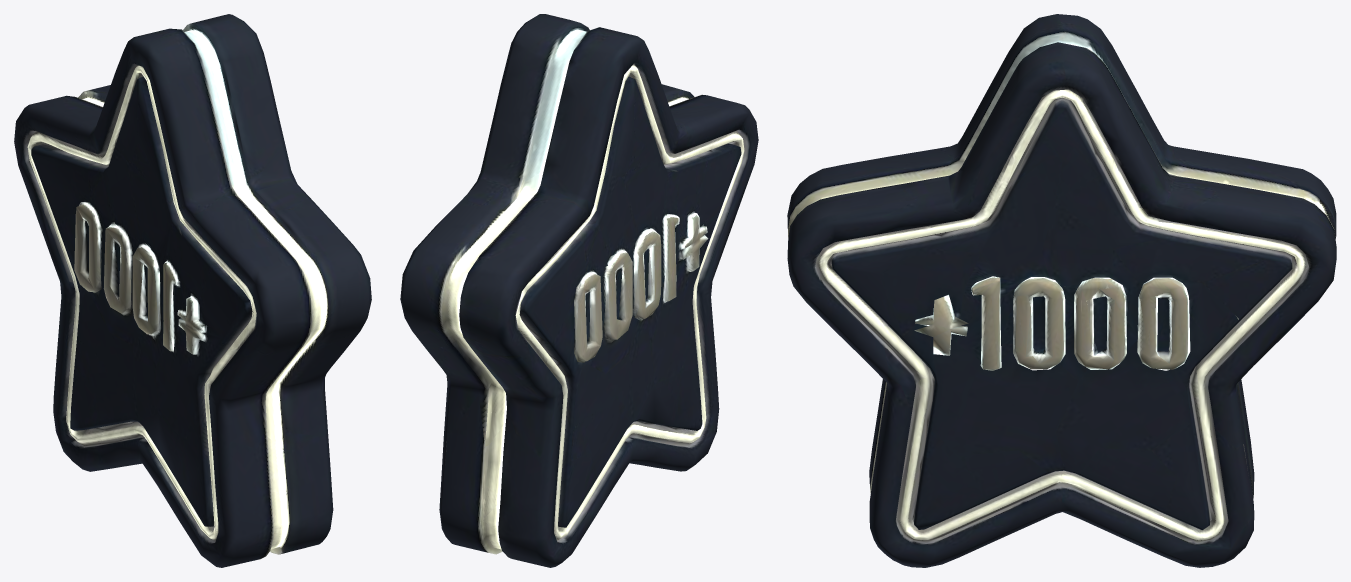
The model's file is bonus_score.glb.
The picture shows the model from 3 angles, left to right: view 1: azimuth 30°, elevation 25°; view 2: azimuth 150°, elevation 25°; view 3: azimuth 270°, elevation 25°; orthographic projection. The views are drawn at different scales.
Visible parts, largest first — view 1: tripo_node_07e65ce5-0dff-4416-9aab-3ec11a3ae5c4; view 2: tripo_node_07e65ce5-0dff-4416-9aab-3ec11a3ae5c4; view 3: tripo_node_07e65ce5-0dff-4416-9aab-3ec11a3ae5c4.
Boxes of the visible parts, x1,y1,x2,y2 form: tripo_node_07e65ce5-0dff-4416-9aab-3ec11a3ae5c4: (14, 14, 371, 567); tripo_node_07e65ce5-0dff-4416-9aab-3ec11a3ae5c4: (400, 14, 758, 567); tripo_node_07e65ce5-0dff-4416-9aab-3ec11a3ae5c4: (787, 14, 1336, 567).
Size of the model in its own units: 0.272 by 0.9799 by 0.9626.
Materials: 1 (1 with a texture image).
